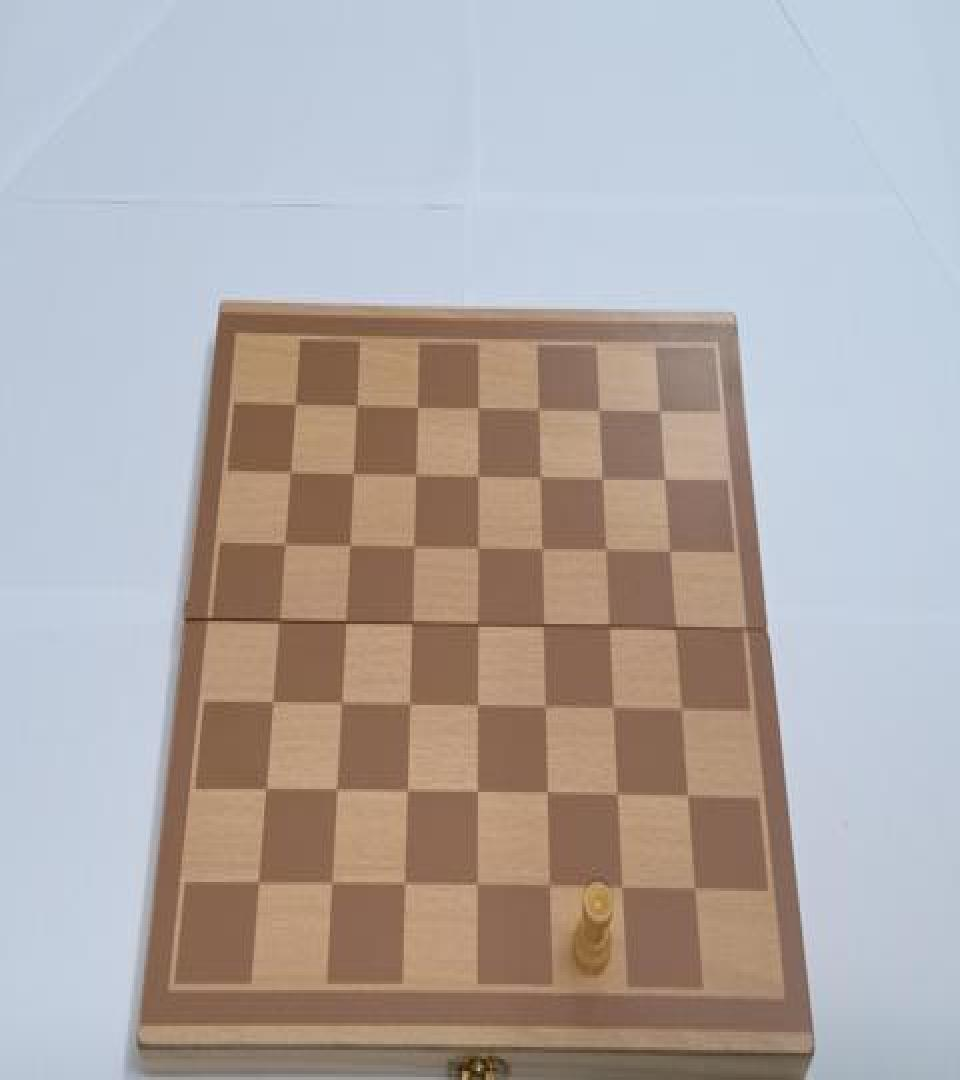xcorner: (332, 694, 350, 722), (400, 694, 418, 722), (468, 694, 486, 722), (655, 466, 673, 494), (287, 396, 305, 423), (270, 612, 288, 639), (264, 693, 282, 720), (258, 780, 276, 807), (347, 396, 365, 423), (344, 465, 362, 492), (340, 537, 358, 564), (336, 612, 354, 639), (328, 780, 346, 807), (408, 396, 426, 423), (406, 465, 424, 492), (404, 537, 422, 564), (395, 873, 413, 900), (468, 397, 486, 424), (468, 465, 486, 492), (468, 537, 486, 564), (468, 873, 486, 900), (529, 397, 547, 424), (530, 465, 548, 492), (532, 537, 550, 564), (536, 696, 554, 723), (540, 874, 558, 901), (589, 397, 607, 424), (593, 465, 611, 492), (596, 538, 614, 565), (600, 615, 618, 642), (604, 696, 622, 723), (608, 783, 626, 810), (613, 874, 631, 901), (650, 397, 668, 424), (661, 538, 679, 565), (666, 615, 684, 642), (672, 696, 690, 723), (679, 783, 697, 810), (685, 876, 703, 903), (282, 464, 300, 490), (276, 536, 294, 562), (250, 872, 268, 898), (323, 872, 341, 898), (402, 614, 420, 640), (398, 782, 416, 808), (468, 614, 486, 640), (468, 782, 486, 808), (534, 614, 552, 640), (538, 782, 556, 808)
